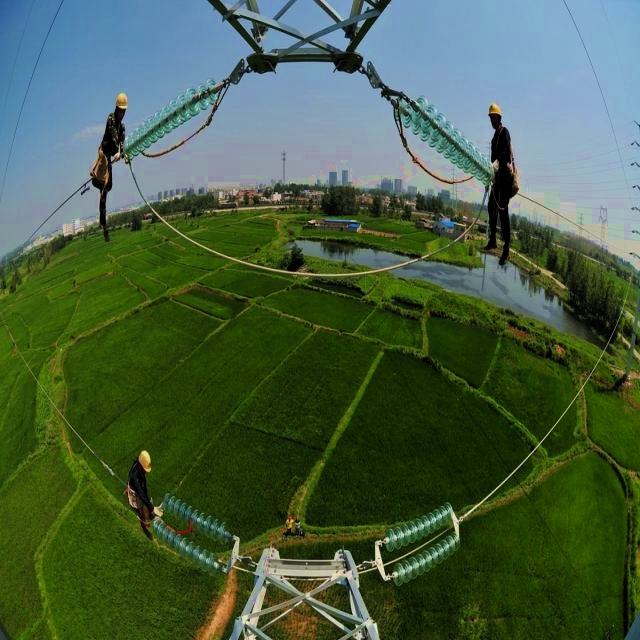Con_Casco: (487, 102, 502, 132), (137, 450, 151, 479), (115, 92, 129, 119)
